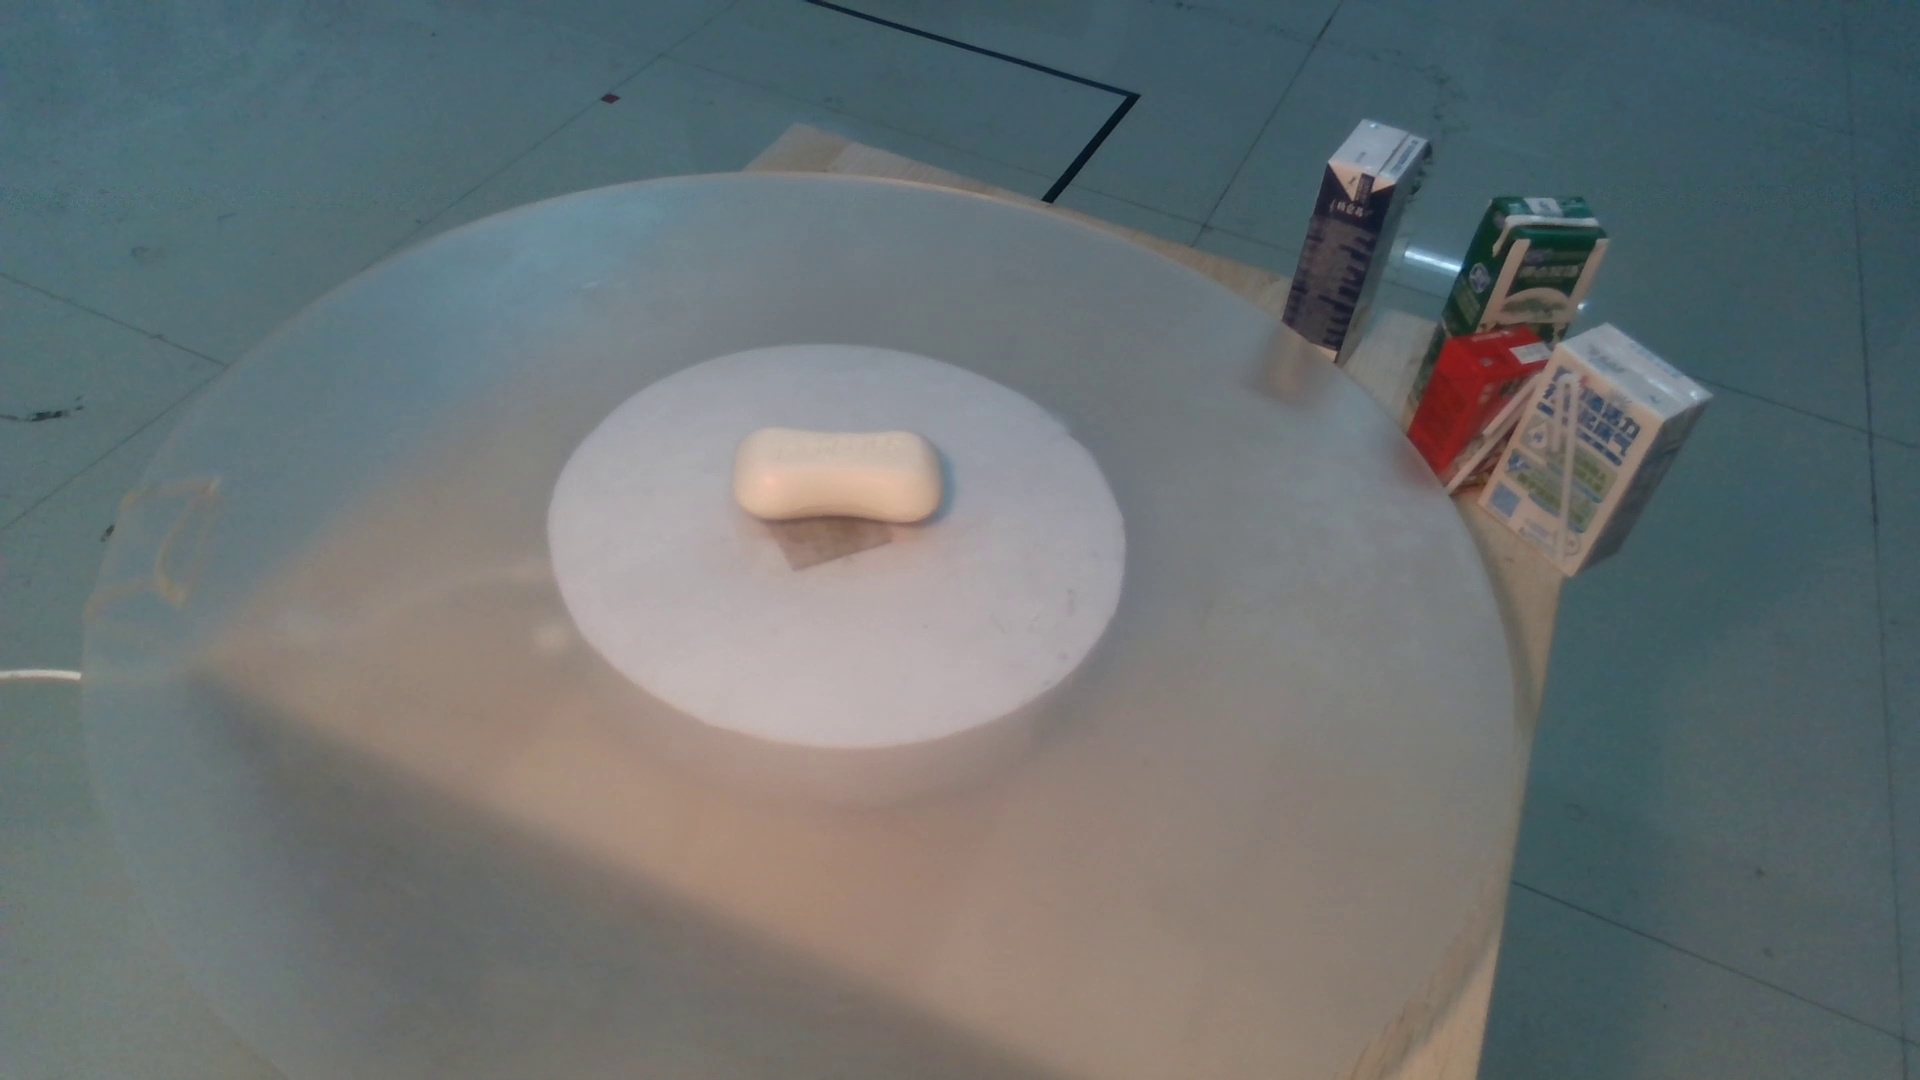CA003_1: (705, 386, 957, 582)
